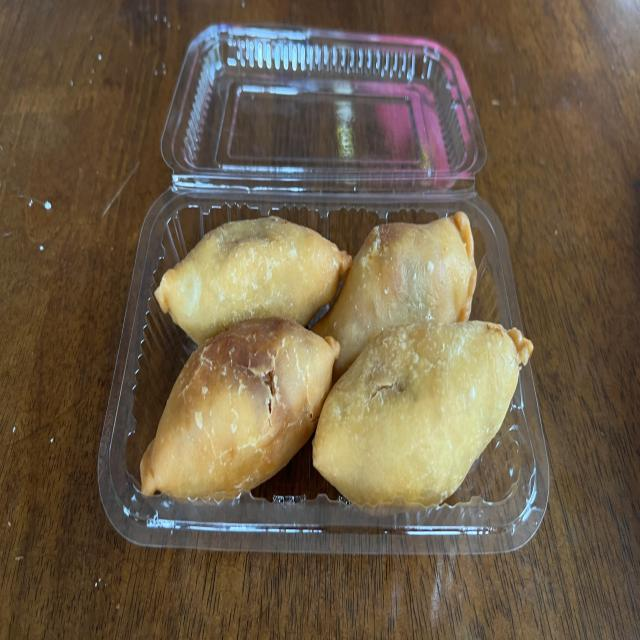karipap: (312, 320, 532, 507), (140, 318, 340, 500), (312, 211, 476, 382), (155, 216, 352, 344)
